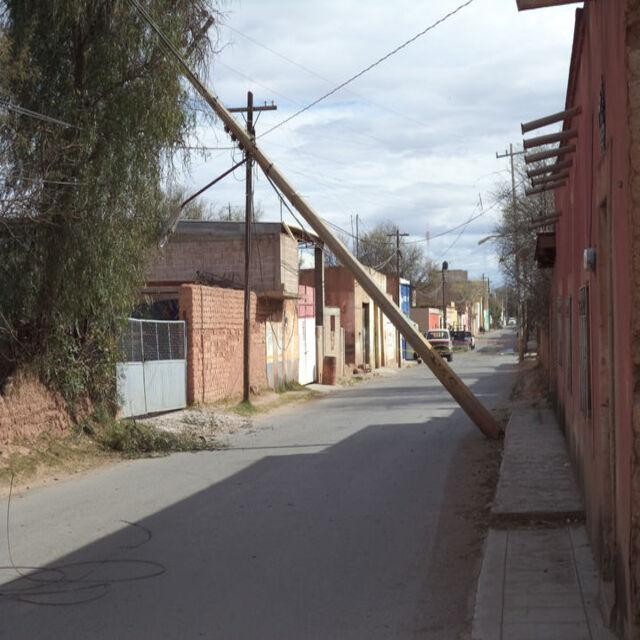Inclined Pole: (166, 14, 502, 441)
